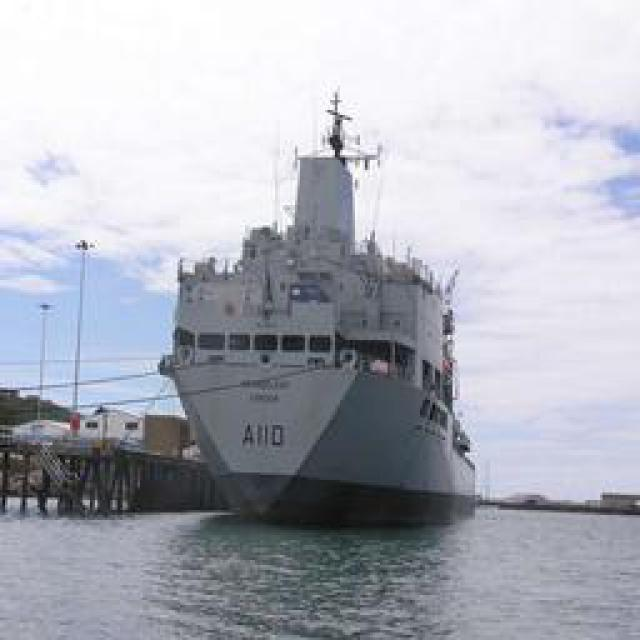Ship: (155, 69, 475, 529)
